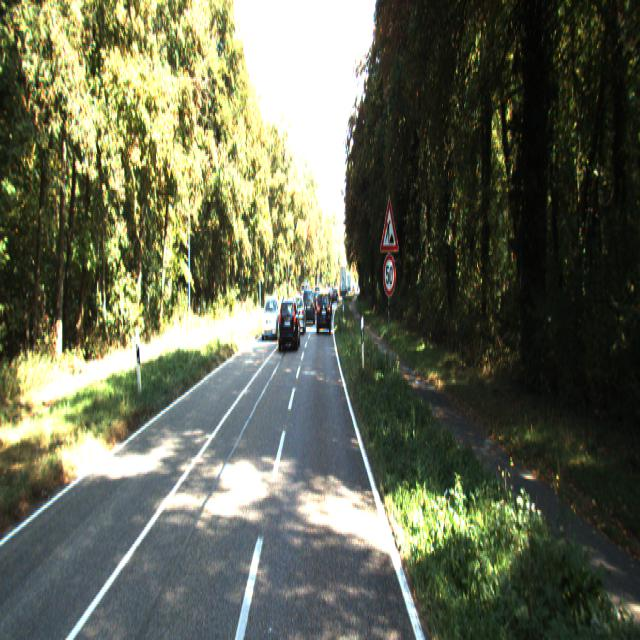Car: (278, 294, 300, 351), (261, 294, 279, 339), (316, 288, 332, 331), (303, 286, 315, 322)
